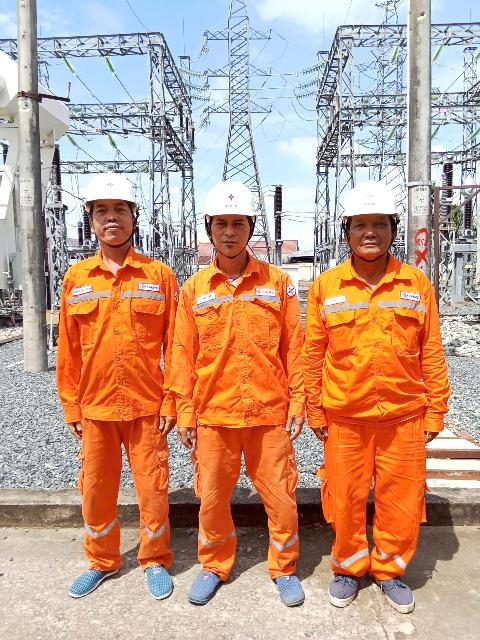helmet: (78, 145, 146, 220), (185, 172, 265, 228), (332, 172, 397, 228)
shoes: (314, 565, 368, 615), (378, 563, 420, 617), (64, 560, 120, 600), (138, 560, 178, 602), (268, 571, 308, 613), (184, 558, 219, 603)
